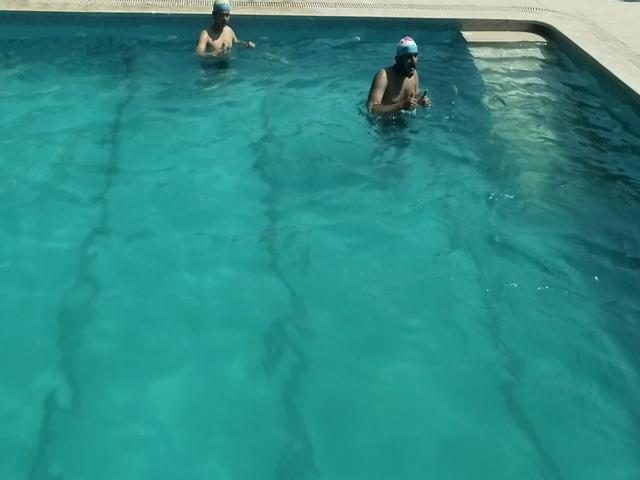swimming: (358, 34, 432, 136), (192, 0, 258, 74)
